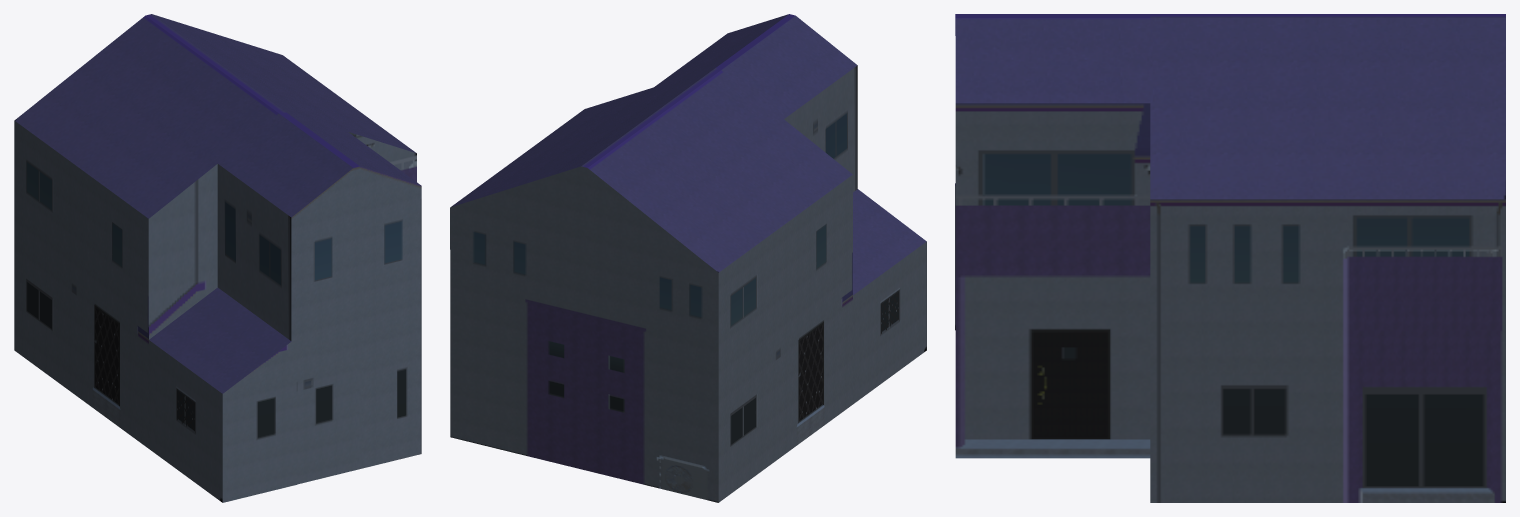
Rendered from house001_low_color1.fbx.
The picture shows the model from 3 angles, left to right: view 1: azimuth 30°, elevation 25°; view 2: azimuth 150°, elevation 25°; view 3: azimuth 270°, elevation 25°; orthographic projection. The views are drawn at different scales.
Parts seen in each view (by area): view 1: house001_low; view 2: house001_low; view 3: house001_low.
Boxes of the visible parts, x1,y1,x2,y2 form: house001_low: (14,14,421,502); house001_low: (450,14,926,502); house001_low: (955,14,1505,502).
Bounding box in the file's own units: 11.56 × 12.48 × 15.54.
